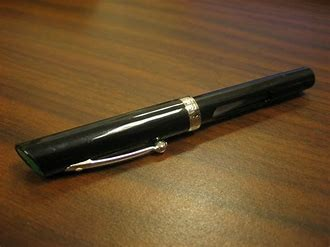pen: (14, 68, 319, 166)
